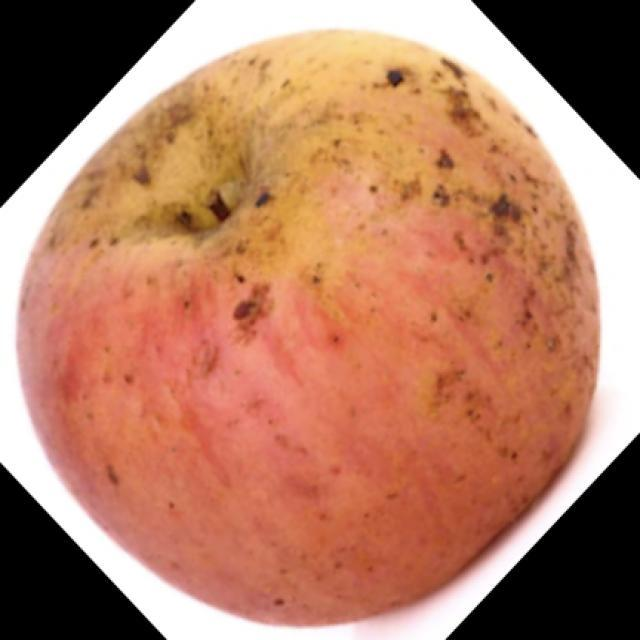Rotten: (30, 32, 568, 603)
